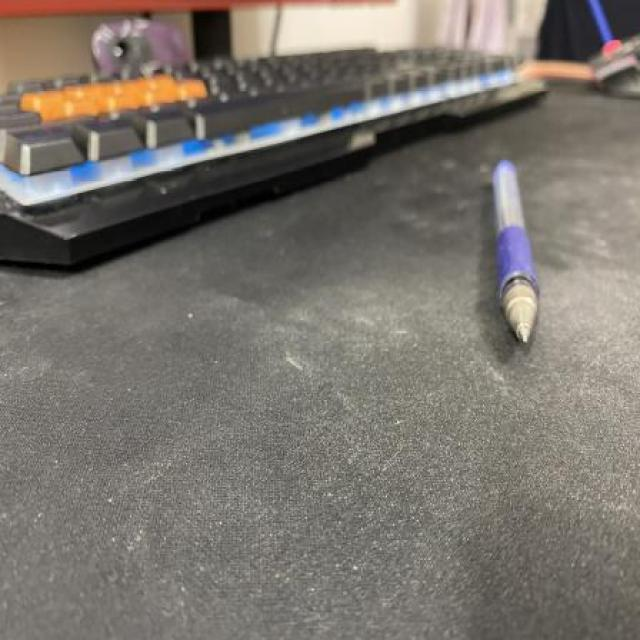pen: (490, 157, 546, 344)
